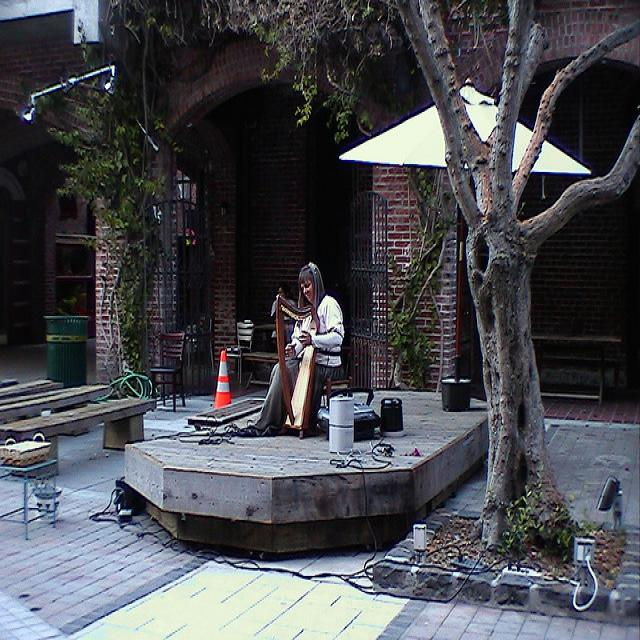harp: (275, 294, 320, 439)
